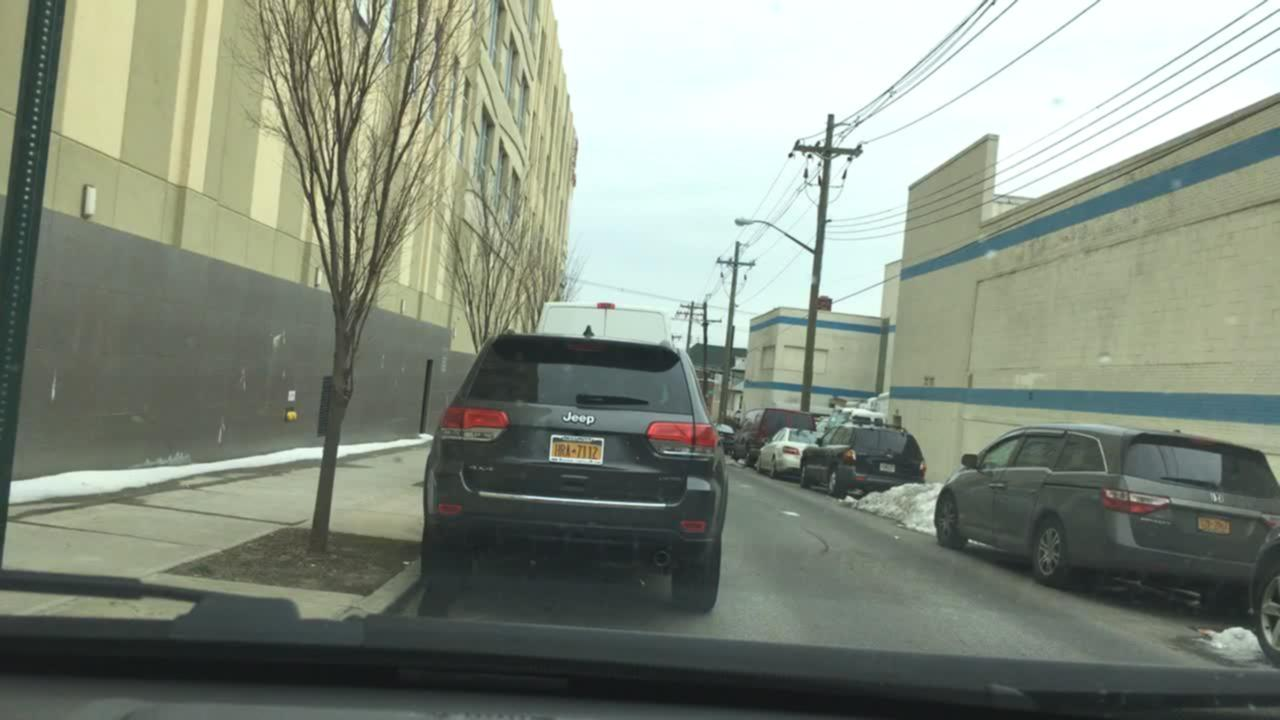jeep: (552, 406, 614, 432)
